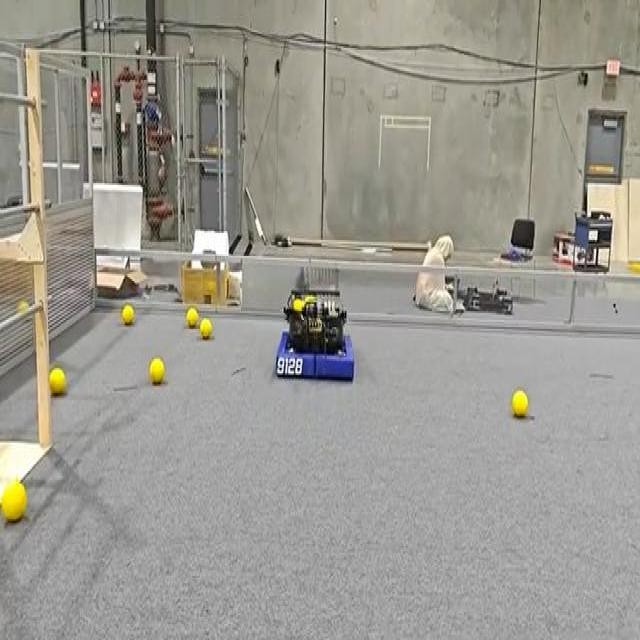Fuel: (0, 478, 26, 521), (49, 366, 65, 395), (149, 357, 164, 384), (512, 389, 527, 416), (121, 304, 135, 325), (199, 318, 212, 338), (186, 308, 198, 328), (200, 318, 212, 338), (186, 308, 197, 327), (17, 301, 28, 311)
